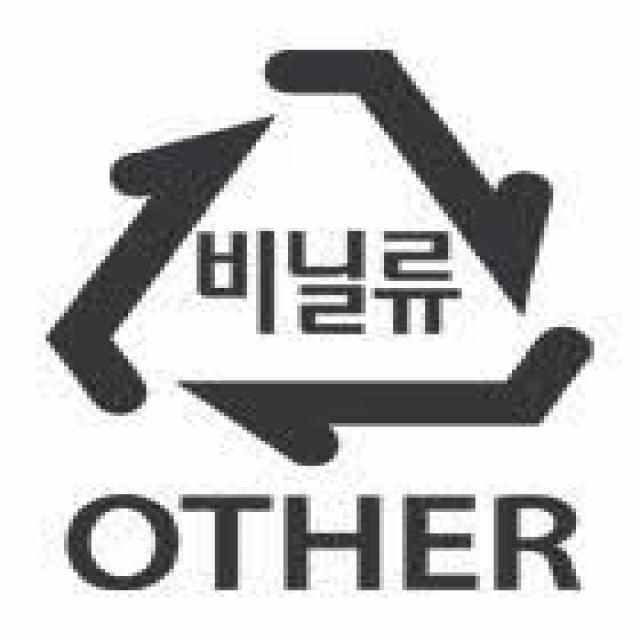Vinyl: (35, 32, 605, 469)
